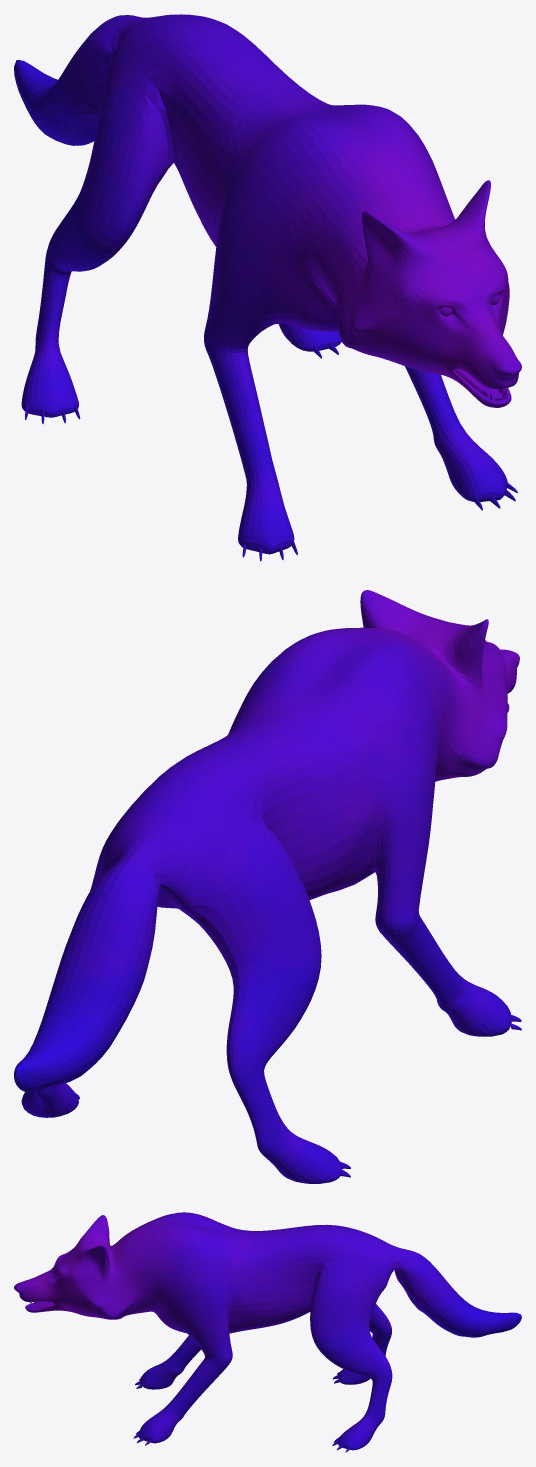
The model's file is pred.glb.
3 renders of one model, top to bottom at view 1: azimuth 30°, elevation 25°; view 2: azimuth 150°, elevation 25°; view 3: azimuth 270°, elevation 25°, orthographic. The views are drawn at different scales.
Size of the model in its own units: 0.2458 by 0.2724 by 0.65.
